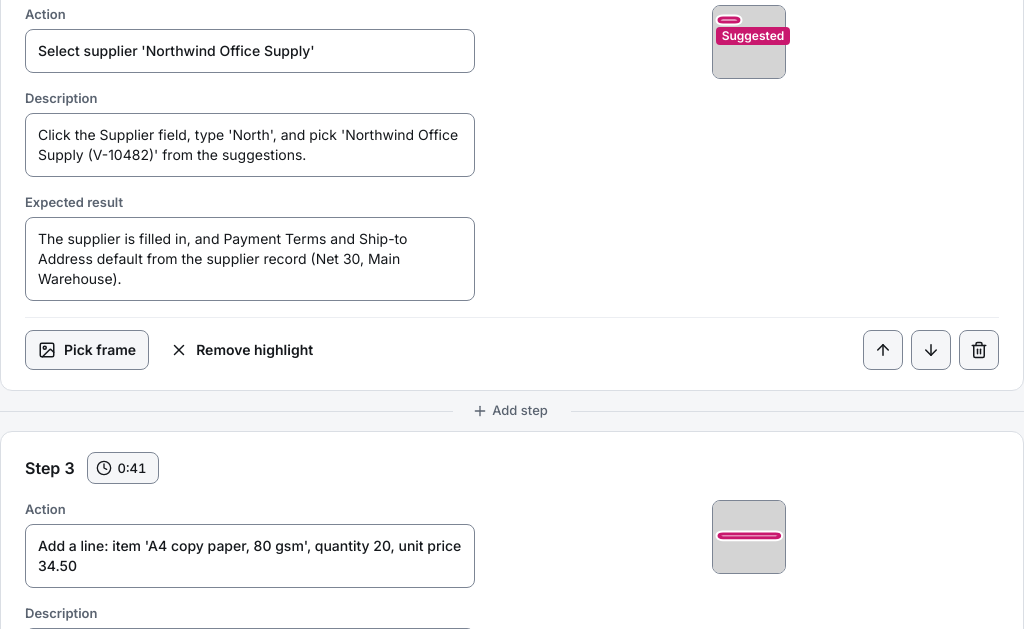
StepList › the row never times out
The image size is (1024, 629).
(page scrolled)
Click the button named "Delete step 2" at (979, 350), box [959,330,999,370]
Wait 60000 ms
(page scrolled)
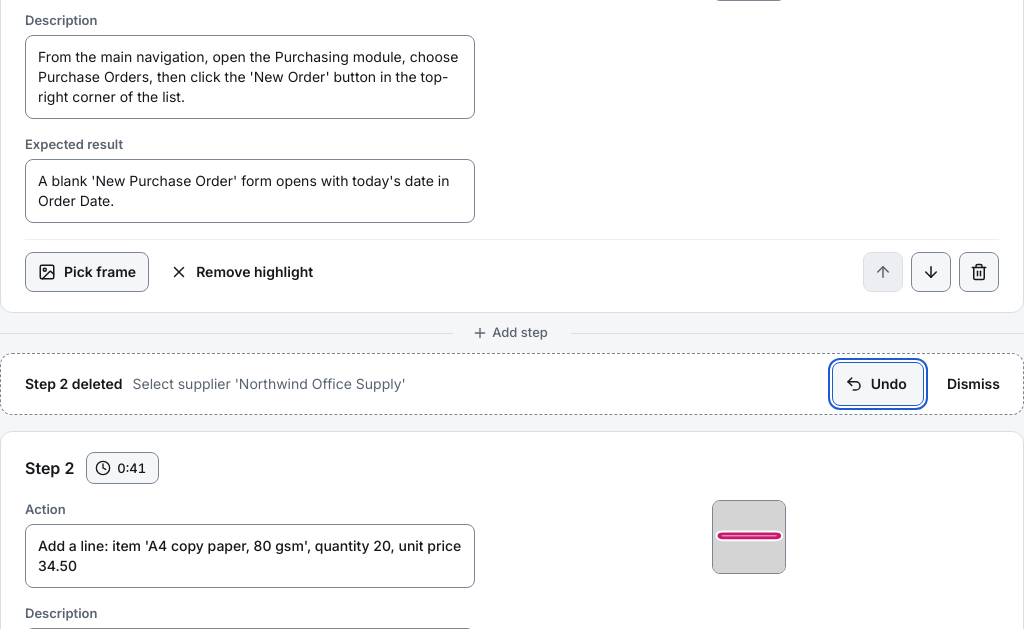
Check: the text "Step 2 deleted" is shown, box [25,374,122,394]
